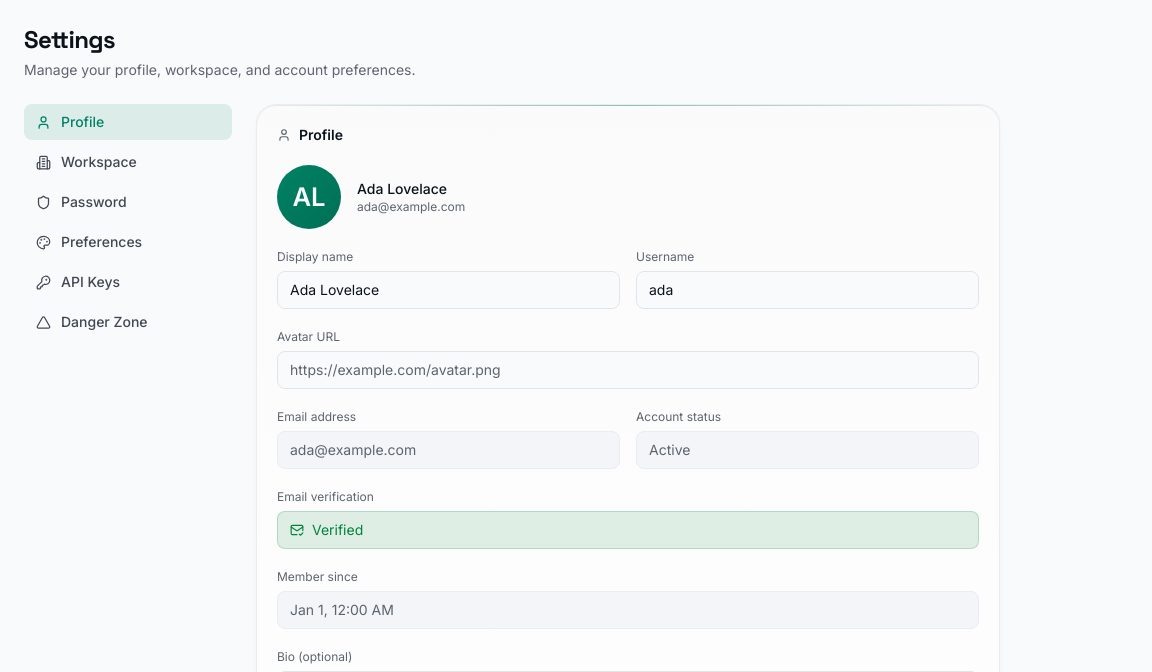
Test: Settings — EP-22.2 backend integration › changes password and shows a success message
This screenshot has width=1152, height=672.
Click the tab "Password": (128, 202) [24, 184, 232, 220]
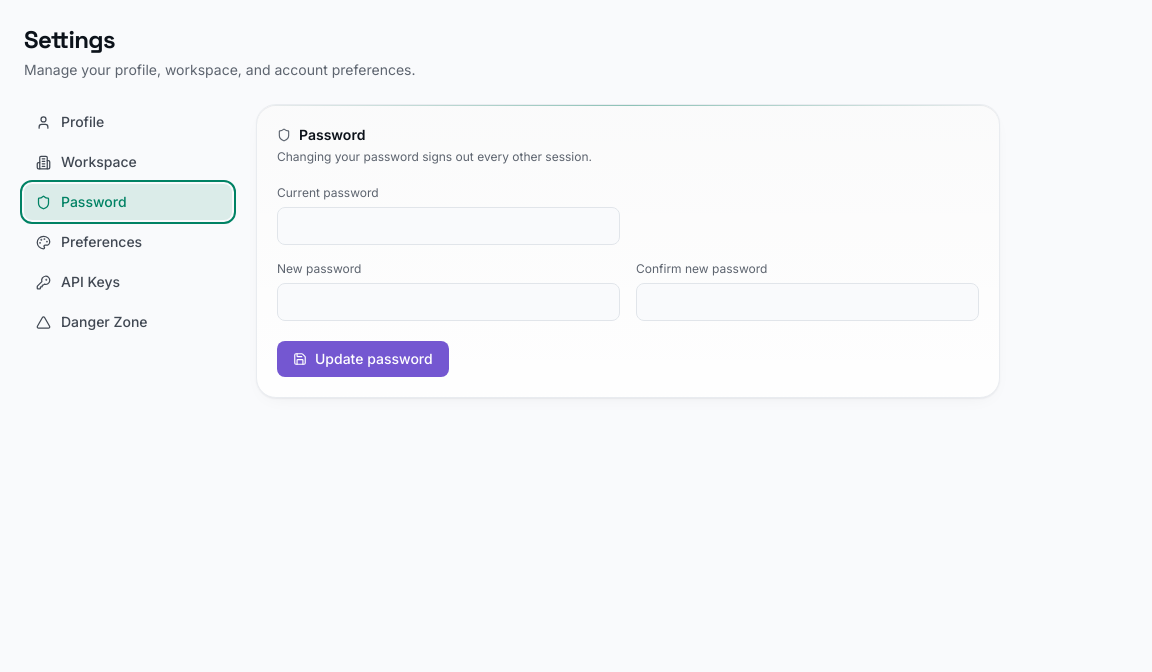
In the password field labelled "Current password": (448, 226) [277, 207, 620, 245], type "old-password-1"
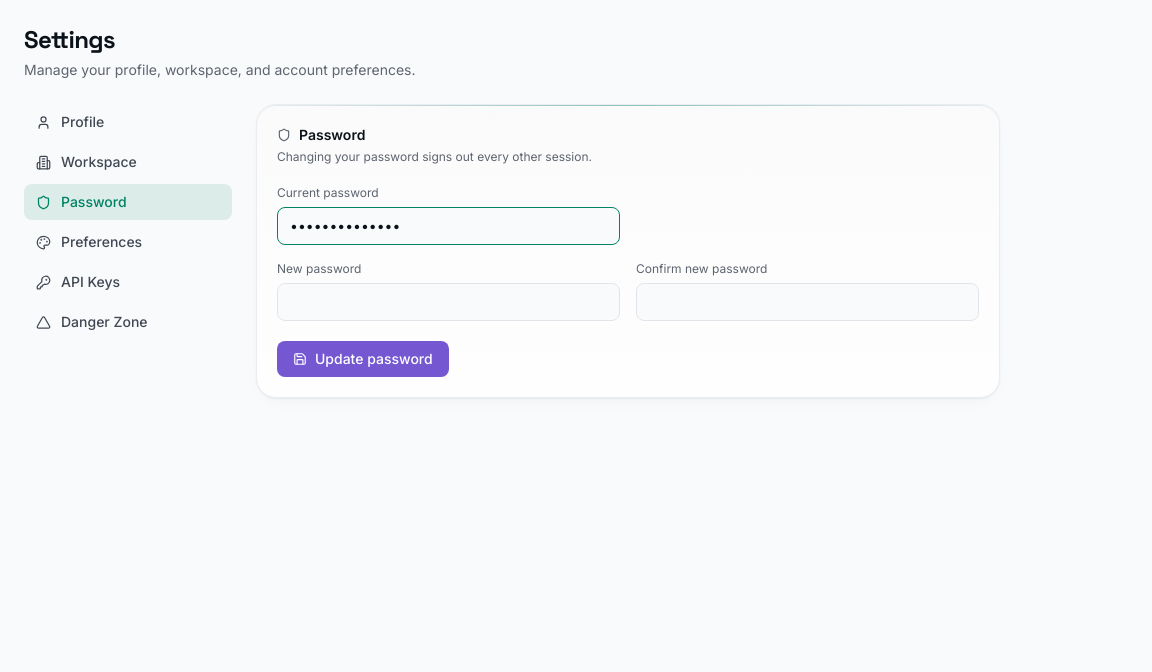
In the password field labelled "New password": (448, 302) [277, 283, 620, 321], type "new-password-2"
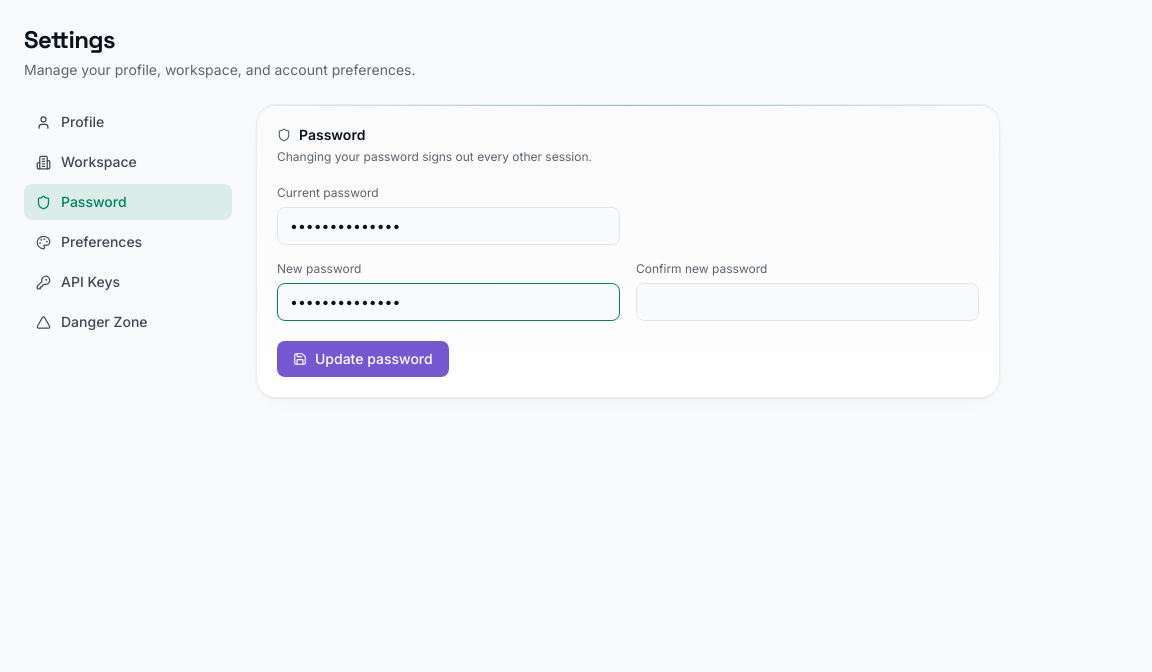
In the password field labelled "Confirm new password": (808, 302) [636, 283, 979, 321], type "new-password-2"
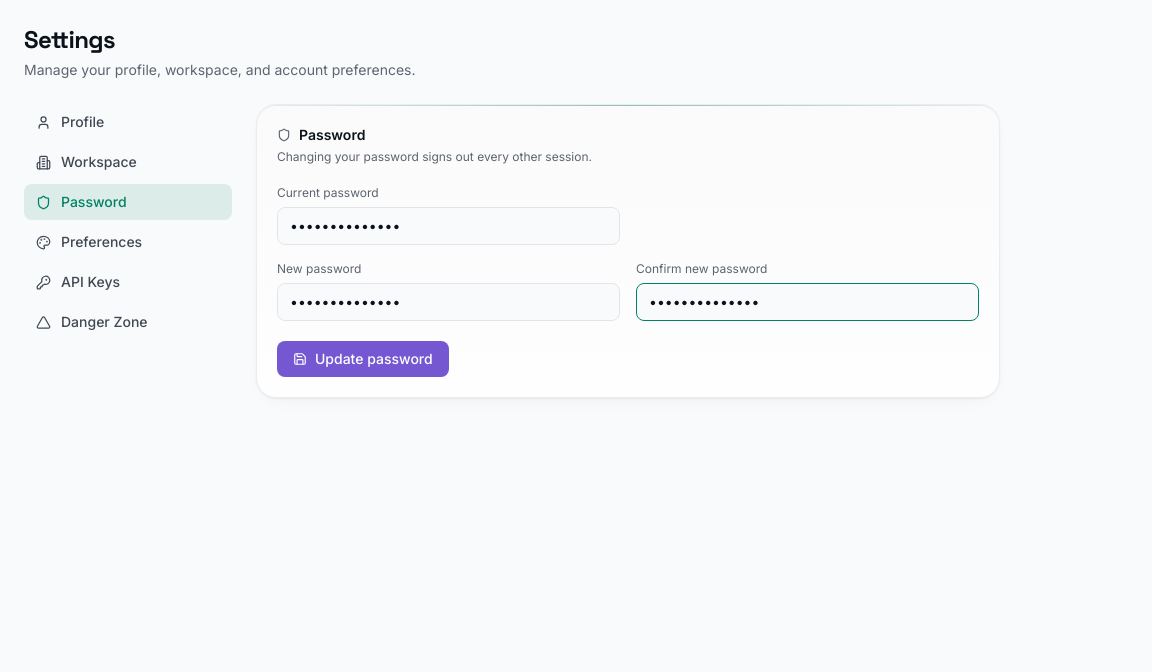
Click the button "Update password": (363, 359) [277, 341, 449, 377]
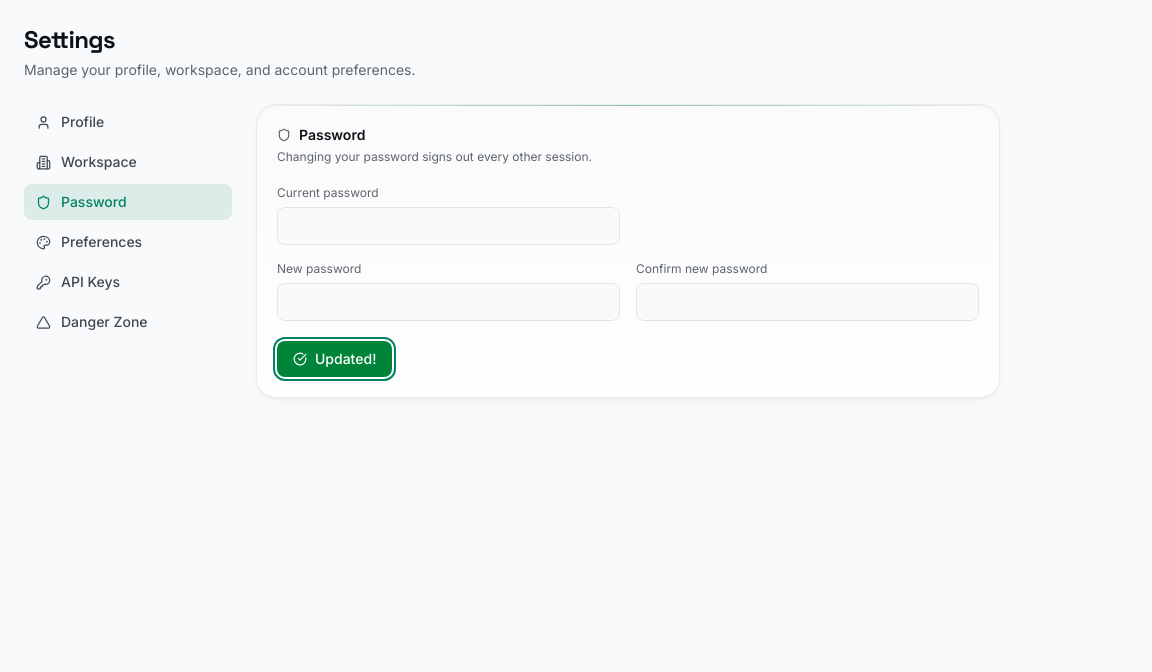
expect the button "Updated!" is shown: met, box [277, 341, 392, 377]
